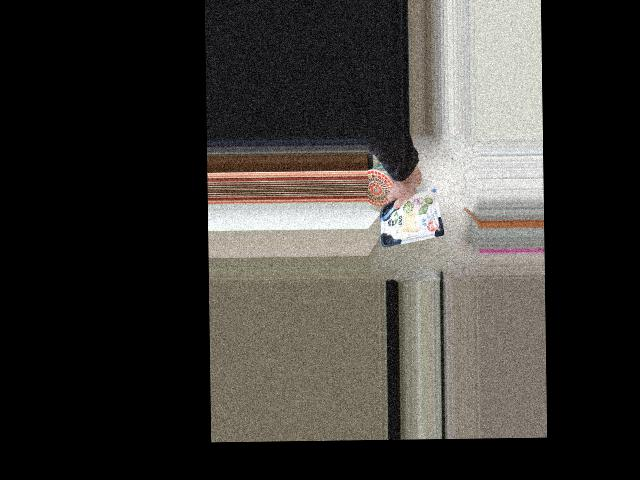cheese: (390, 180, 437, 230)
